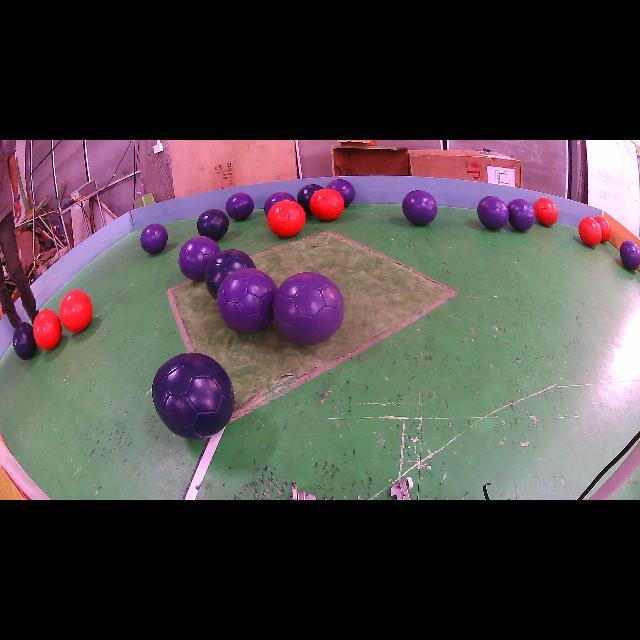B: (152, 352, 235, 439), (205, 249, 255, 299), (198, 209, 229, 241), (12, 322, 38, 360), (296, 184, 322, 214)
P: (272, 271, 345, 345), (216, 268, 278, 334), (179, 236, 220, 281), (402, 190, 438, 225), (478, 196, 509, 230), (508, 199, 536, 231), (326, 179, 355, 208), (140, 224, 168, 254), (264, 191, 296, 216), (226, 192, 254, 220), (620, 240, 640, 270)
R: (268, 200, 305, 238), (59, 290, 92, 332), (32, 309, 61, 350), (310, 189, 344, 221), (534, 198, 559, 226), (579, 216, 602, 246), (594, 216, 611, 242)
